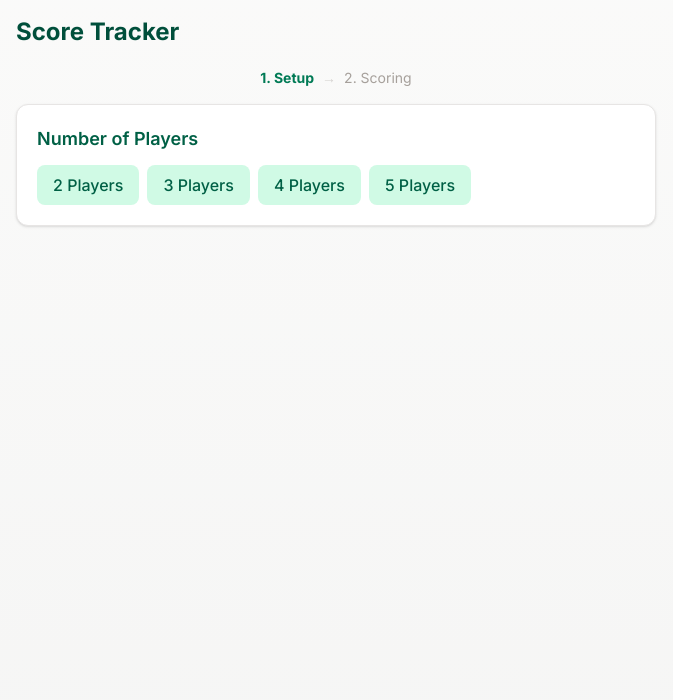
Test case: ScoreTracker › player setup › uses default names when names are left empty
The width and height of the screenshot is (673, 700).
What coordinates should you click on to do the following:
click the button "2 Players"
I would click on:
 (88, 185)
Its box is [37,165,139,205].
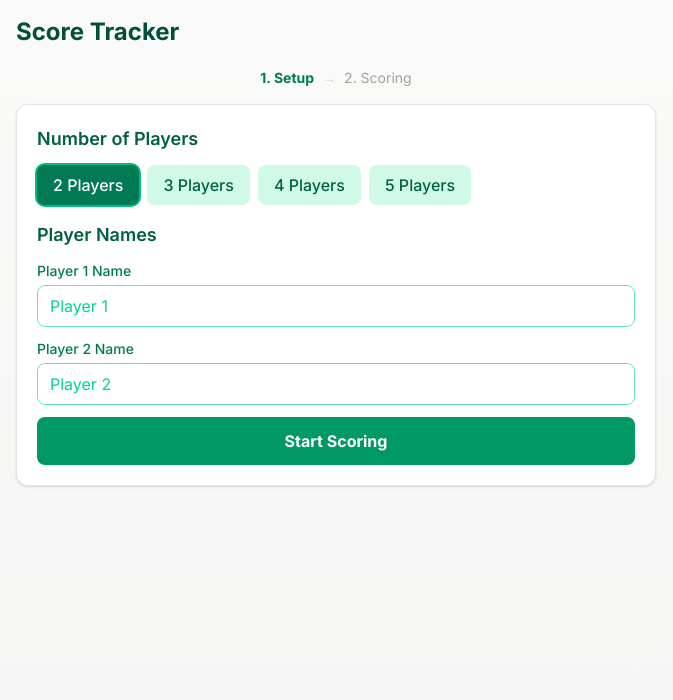
What coordinates should you click on to do the following:
click the button "Start Scoring"
I would click on:
 (336, 441)
Its box is [37,417,635,465].
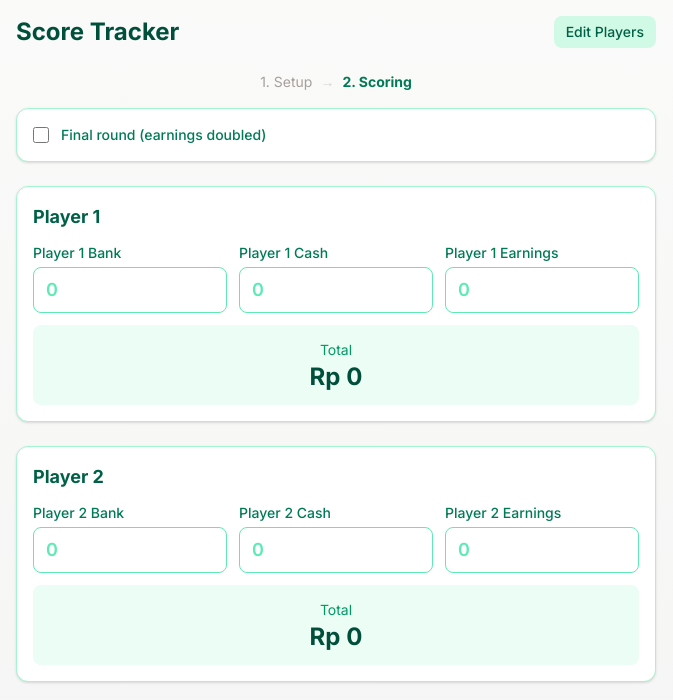
Now the number field labelled "Player 1 Bank" is shown, box [33,267,227,313]
Now the number field labelled "Player 2 Bank" is shown, box [33,527,227,573]
